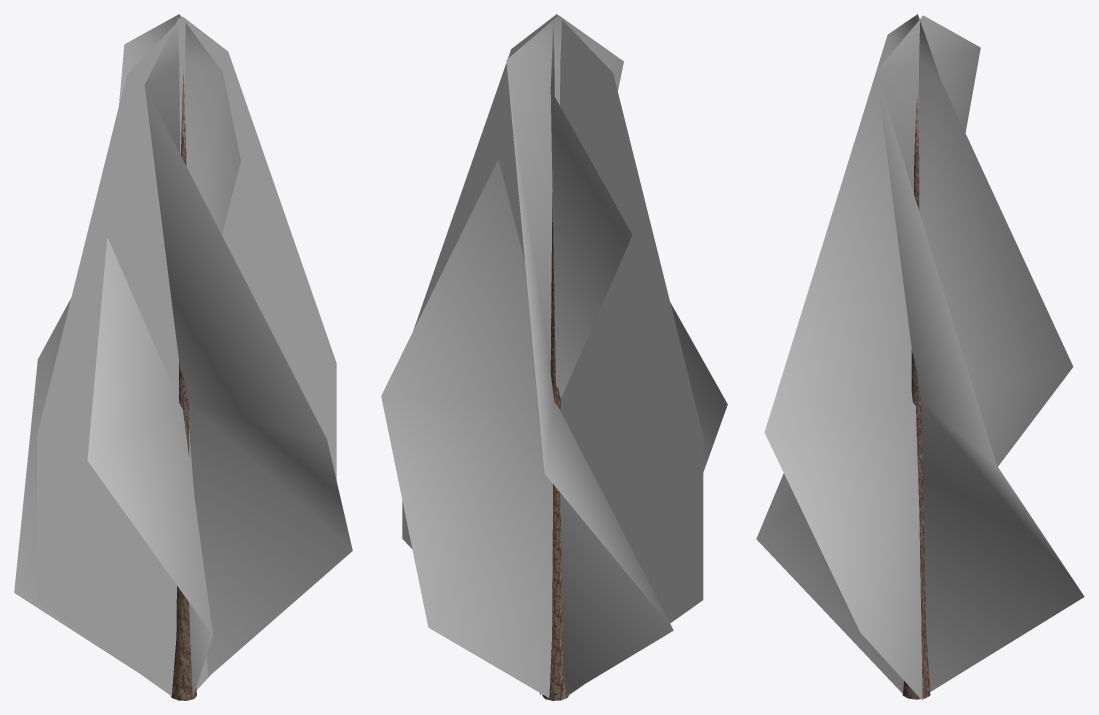
File: Fol_SprucePlateA.FBX
The picture shows the model from 3 angles, left to right: view 1: azimuth 30°, elevation 25°; view 2: azimuth 150°, elevation 25°; view 3: azimuth 270°, elevation 25°; orthographic projection.
Parts seen in each view (by area): view 1: Spruce_Plate_1, Trunk; view 2: Spruce_Plate_1, Trunk; view 3: Spruce_Plate_1, Trunk.
Part boxes in pixels (bbox=[...]): Spruce_Plate_1: bbox=[14, 14, 352, 697]; Trunk: bbox=[171, 69, 196, 700]; Spruce_Plate_1: bbox=[381, 14, 727, 697]; Trunk: bbox=[542, 192, 568, 700]; Spruce_Plate_1: bbox=[756, 14, 1084, 700]; Trunk: bbox=[902, 98, 930, 699].
Size of the model in its own units: 757 by 1642 by 719.
